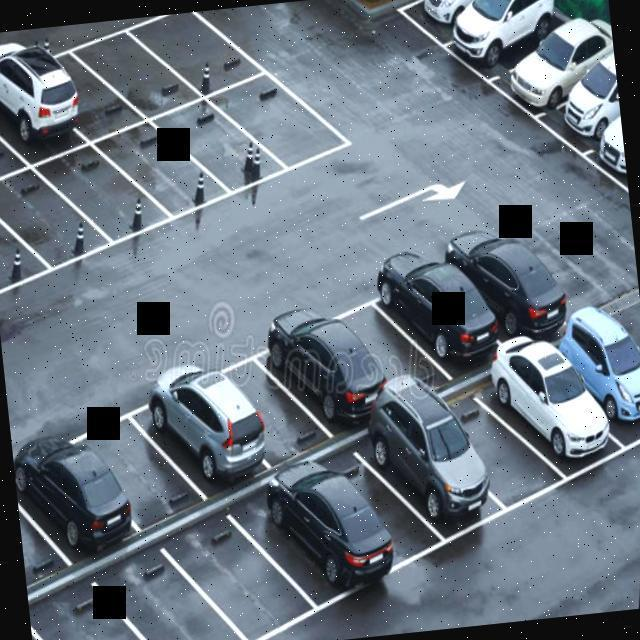car: (349, 384, 496, 556), (245, 457, 388, 626), (356, 236, 502, 382), (252, 298, 384, 446), (10, 420, 141, 568), (484, 334, 610, 486), (51, 127, 178, 276), (0, 160, 122, 313), (133, 362, 273, 492), (434, 214, 572, 343), (112, 102, 244, 228), (9, 19, 136, 144), (481, 18, 620, 128), (430, 0, 580, 95), (549, 304, 640, 450), (170, 89, 288, 198), (0, 40, 98, 168), (532, 64, 625, 168), (0, 173, 59, 335), (384, 0, 504, 55), (580, 95, 629, 204), (0, 66, 25, 186), (0, 212, 17, 373)
free: (310, 273, 452, 411), (164, 500, 303, 640), (316, 437, 446, 581), (64, 400, 201, 535), (429, 374, 556, 519), (231, 52, 352, 188), (63, 15, 202, 130), (204, 342, 330, 468), (105, 533, 240, 640), (144, 6, 257, 98), (45, 574, 164, 640), (14, 467, 58, 589), (29, 612, 102, 640)
